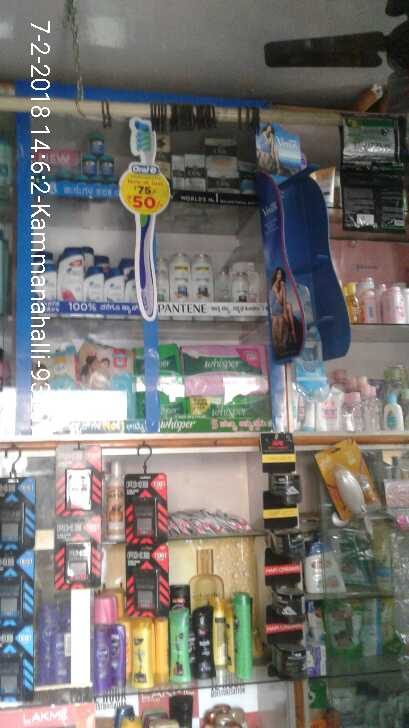beauty: (56, 246, 88, 304), (201, 138, 242, 176), (228, 262, 257, 308), (169, 248, 193, 302), (192, 255, 217, 306), (106, 270, 131, 304), (86, 266, 104, 307), (185, 156, 206, 190), (169, 149, 183, 192)
pharmacy: (182, 343, 270, 397), (81, 344, 132, 427), (74, 155, 99, 181), (86, 133, 105, 155), (101, 156, 115, 178)
